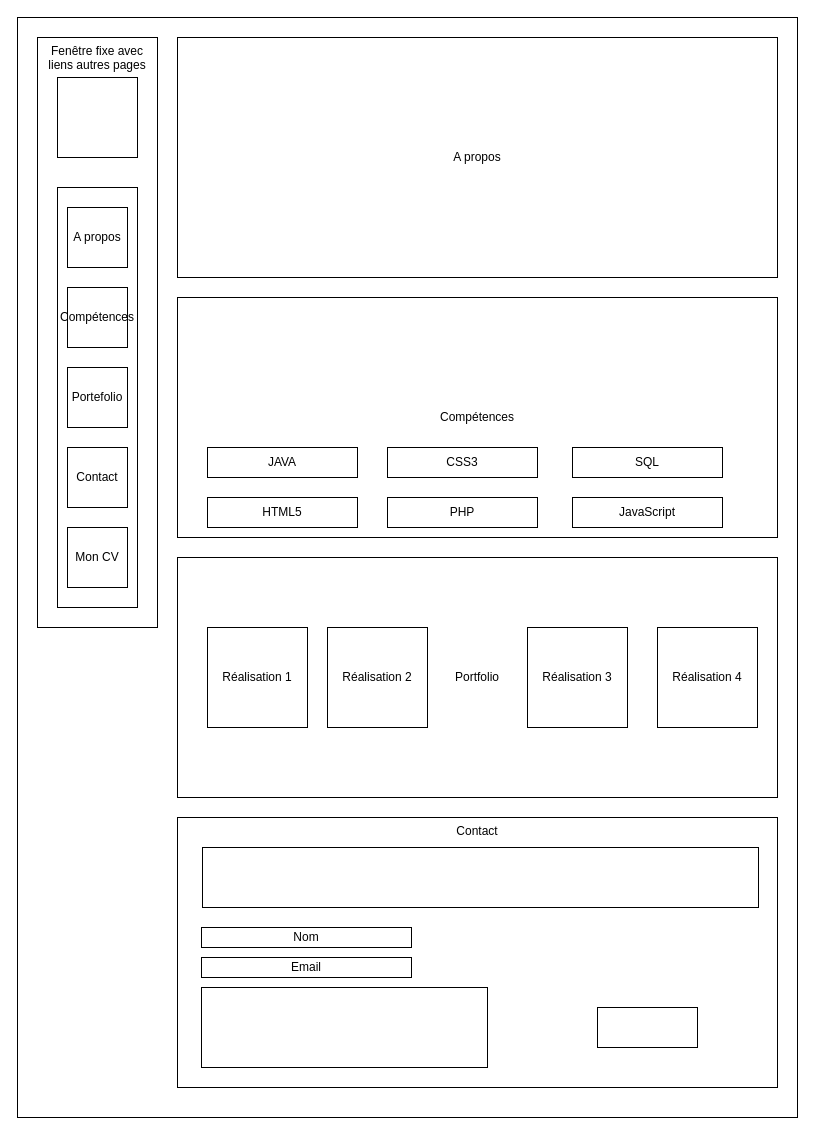
The diagram is 815 pixels wide and 1135 high, and some of its shapes have lost their labels. Each missing label, with the centre of its shape:
"Envoyer" belongs at point 647,1027.
"Mes coordonnées, mail, telephone" belongs at point 480,877.
"Message" belongs at point 344,1027.
"Photo" belongs at point 97,117.
